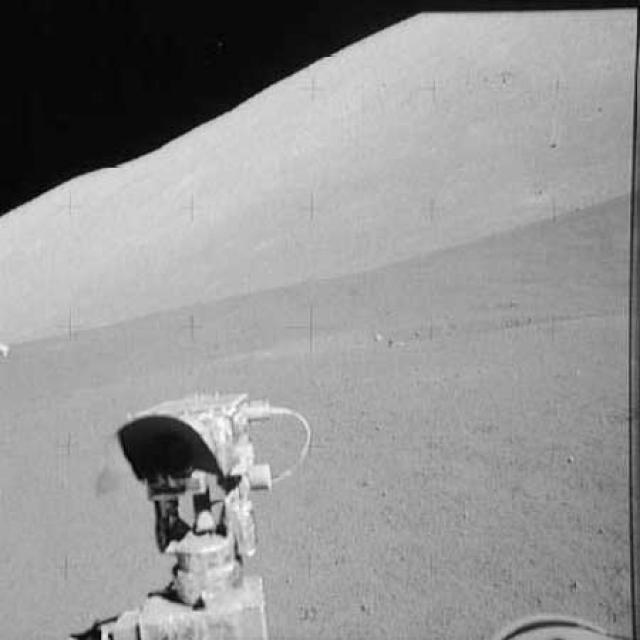artifact: (73, 379, 316, 639), (482, 600, 632, 639)
